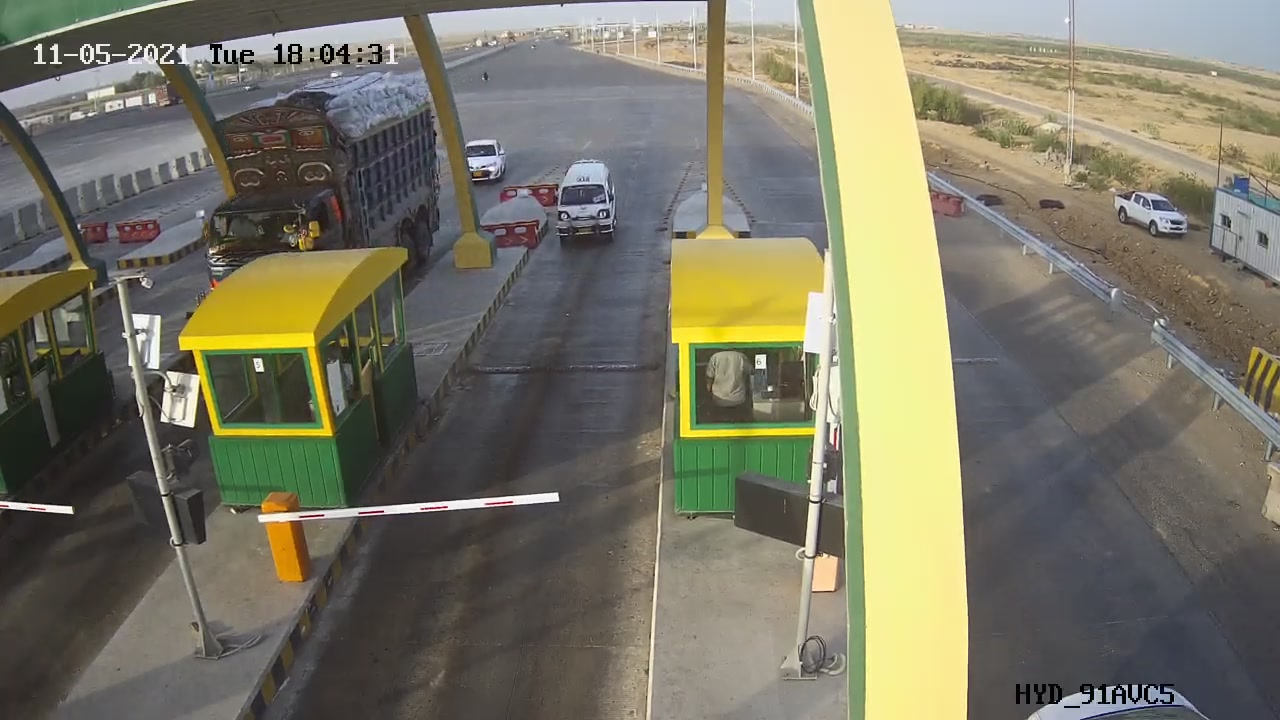F1: (534, 144, 636, 262)
